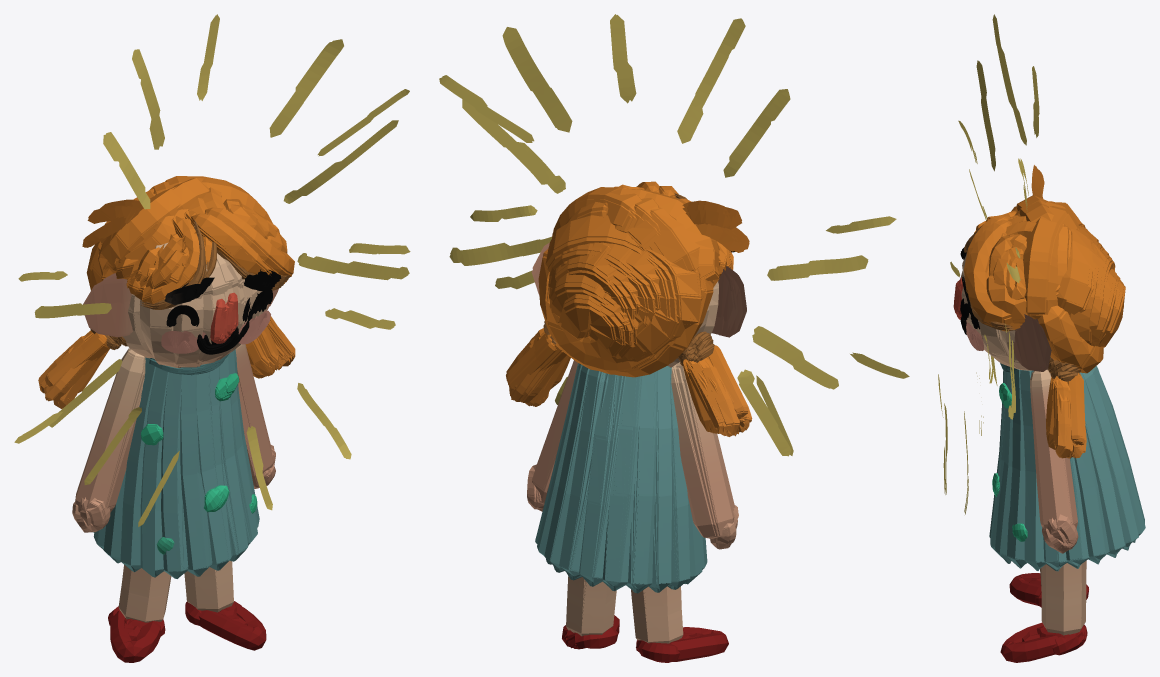
The model's file is girlhappyidle.fbx.
The picture shows the model from 3 angles, left to right: view 1: azimuth 30°, elevation 25°; view 2: azimuth 150°, elevation 25°; view 3: azimuth 270°, elevation 25°; orthographic projection. The views are drawn at different scales.
Parts seen in each view (by area): view 1: Girl; view 2: Girl; view 3: Girl.
Boxes of the visible parts, box(x1,y1,x2,y2) form: Girl: box(14, 14, 410, 662); Girl: box(439, 14, 909, 662); Girl: box(938, 14, 1145, 662).
Size of the model in its own units: 1.68 by 2.37 by 0.7585.
